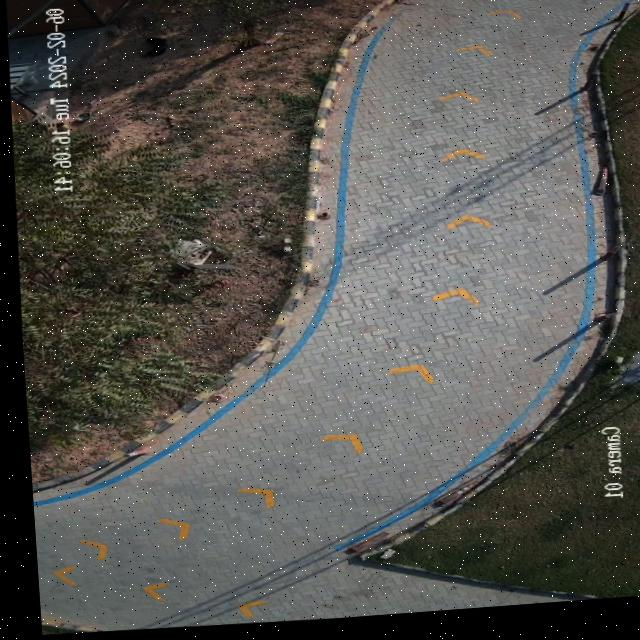No Car: (6, 0, 640, 634)
